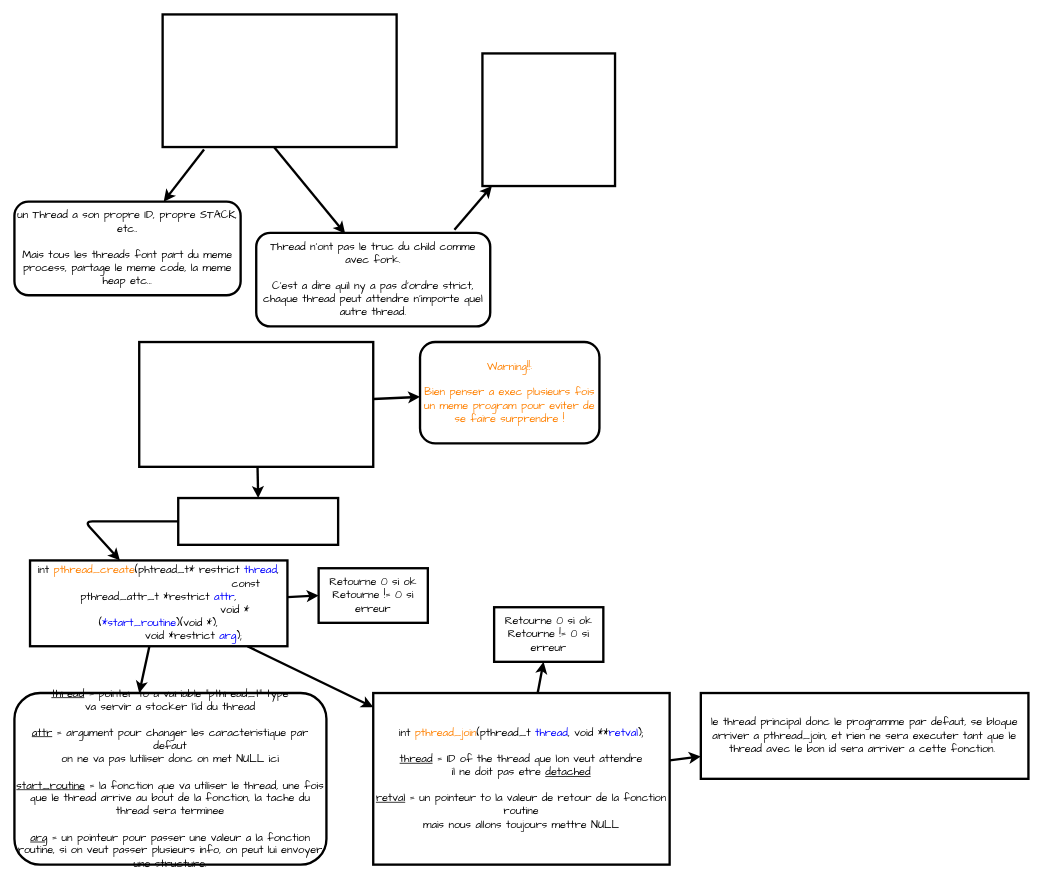
Some shapes in this 1043 by 885 pixel diagram are drawn without their labels. The shapes that lost their labels are listed below. From the top down, each one's box as (x1, y1, x2, y2) in pixels, then its label:
(161, 13, 397, 148): what is a thread ?
(481, 52, 616, 187): N'importe quel thread peut lire ou ecrire dans la meme zone memoire !
(138, 340, 374, 468): UTILISATION
(177, 496, 339, 546): #include <pthread.h> cc -pthread main.c
